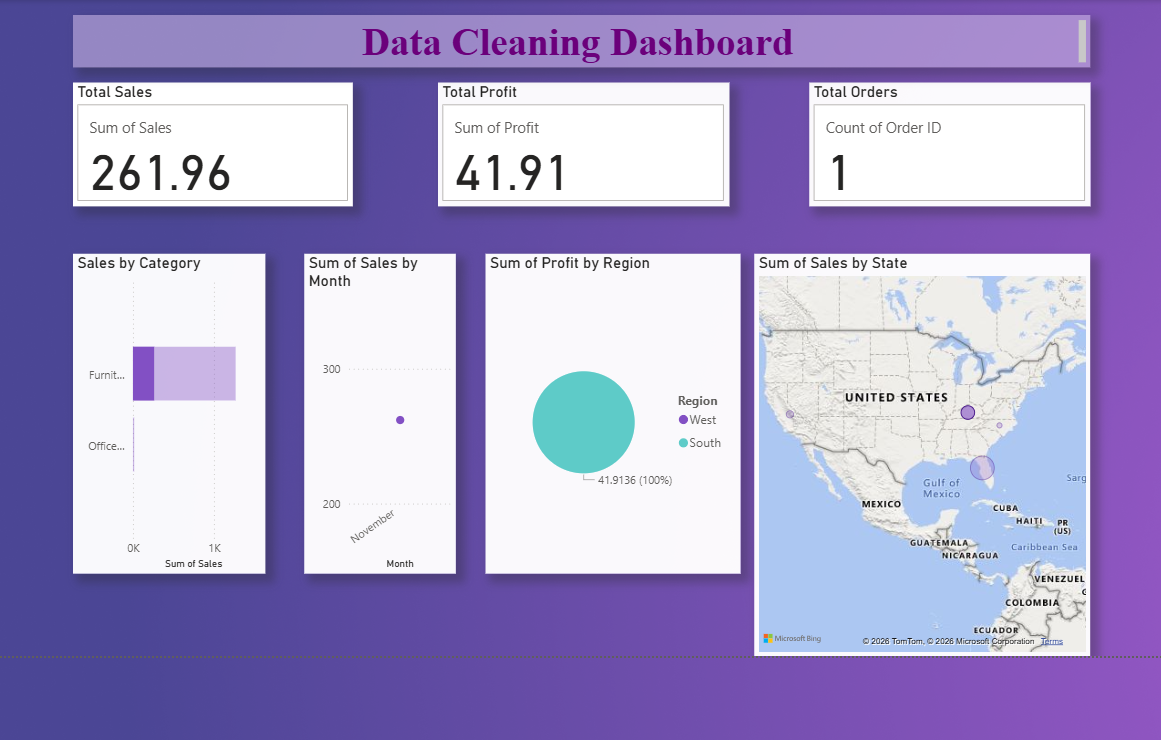

Layout of this report page (visuals, bound fields, positions):
{"tool":"powerbi","page":{"name":"Page 1","canvas":[1280,720],"ordinal":0},"visuals":[{"type":"cardVisual","title":"Total Sales","fields":{"Data":["Sum(cleaned_sales_data.Sales)"]},"box":[85,113.4,306.1,136.1],"z":0},{"type":"cardVisual","title":"Total Profit","fields":{"Data":["Sum(cleaned_sales_data.Profit)"]},"box":[425.2,113.4,279.7,136.1],"z":1000},{"type":"cardVisual","title":"Total Orders","fields":{"Data":["CountNonNull(cleaned_sales_data.Order ID)"]},"box":[755.9,113.4,442.2,136.1],"z":2000},{"type":"clusteredBarChart","title":"Sales by Category","fields":{"Category":["cleaned_sales_data.Category"],"Y":["Sum(cleaned_sales_data.Sales)"]},"box":[83.2,277.8,308,243.8],"z":3000},{"type":"lineChart","fields":{"Category":["cleaned_sales_data.Month"],"Y":["Sum(cleaned_sales_data.Sales)"]},"box":[83.2,555.6,308,164.4],"z":4000},{"type":"pieChart","fields":{"Category":["cleaned_sales_data.Region"],"Y":["Sum(cleaned_sales_data.Profit)"]},"box":[425.2,277.8,279.7,442.2],"z":5000},{"type":"map","fields":{"Category":["cleaned_sales_data.State"],"Size":["Sum(cleaned_sales_data.Sales)"]},"box":[755.9,277.8,442.2,442.2],"z":6000},{"type":"textbox","box":[83.2,17,1115,56.7],"z":7000}]}

Visuals, with their boxes on the page's 1280x720 design canvas (x1, y1, x2, y2). These are canvas units, not pixel positions in the 1161x740 screenshot, which may show the page scaled, cropped or inside an application window:
"Total Sales" cardVisual: [x1=85, y1=113, x2=391, y2=250]
"Total Profit" cardVisual: [x1=425, y1=113, x2=705, y2=250]
"Total Orders" cardVisual: [x1=756, y1=113, x2=1198, y2=250]
"Sales by Category" clusteredBarChart: [x1=83, y1=278, x2=391, y2=522]
lineChart - cleaned_sales_data.Month x Sum(cleaned_sales_data.Sales): [x1=83, y1=556, x2=391, y2=720]
pieChart - cleaned_sales_data.Region x Sum(cleaned_sales_data.Profit): [x1=425, y1=278, x2=705, y2=720]
map - cleaned_sales_data.State x Sum(cleaned_sales_data.Sales): [x1=756, y1=278, x2=1198, y2=720]
textbox: [x1=83, y1=17, x2=1198, y2=74]
